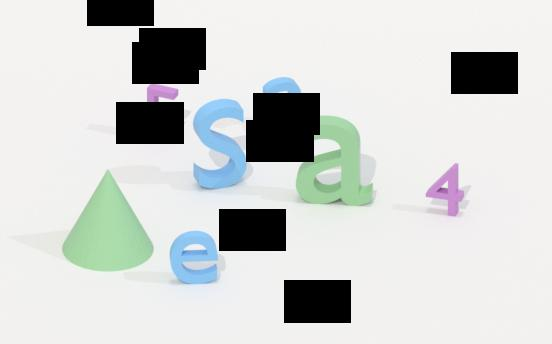4: (422, 158, 466, 218)
F: (143, 78, 183, 141)
a: (295, 109, 378, 212), (259, 72, 309, 134)
e: (169, 228, 221, 287)
non: (57, 161, 160, 273)
s: (191, 94, 250, 194)
